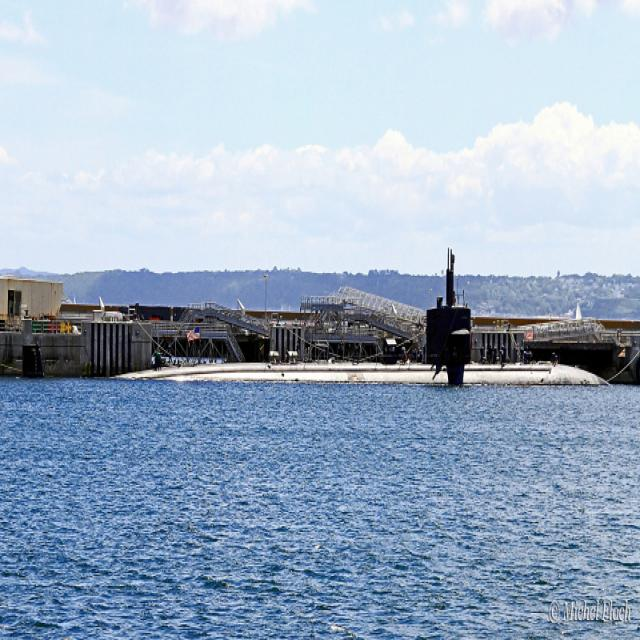submarine: (106, 291, 626, 382)
